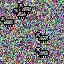sheep: (35, 46, 49, 58), (0, 16, 14, 27), (13, 8, 27, 19), (18, 3, 32, 14), (35, 32, 49, 43)
